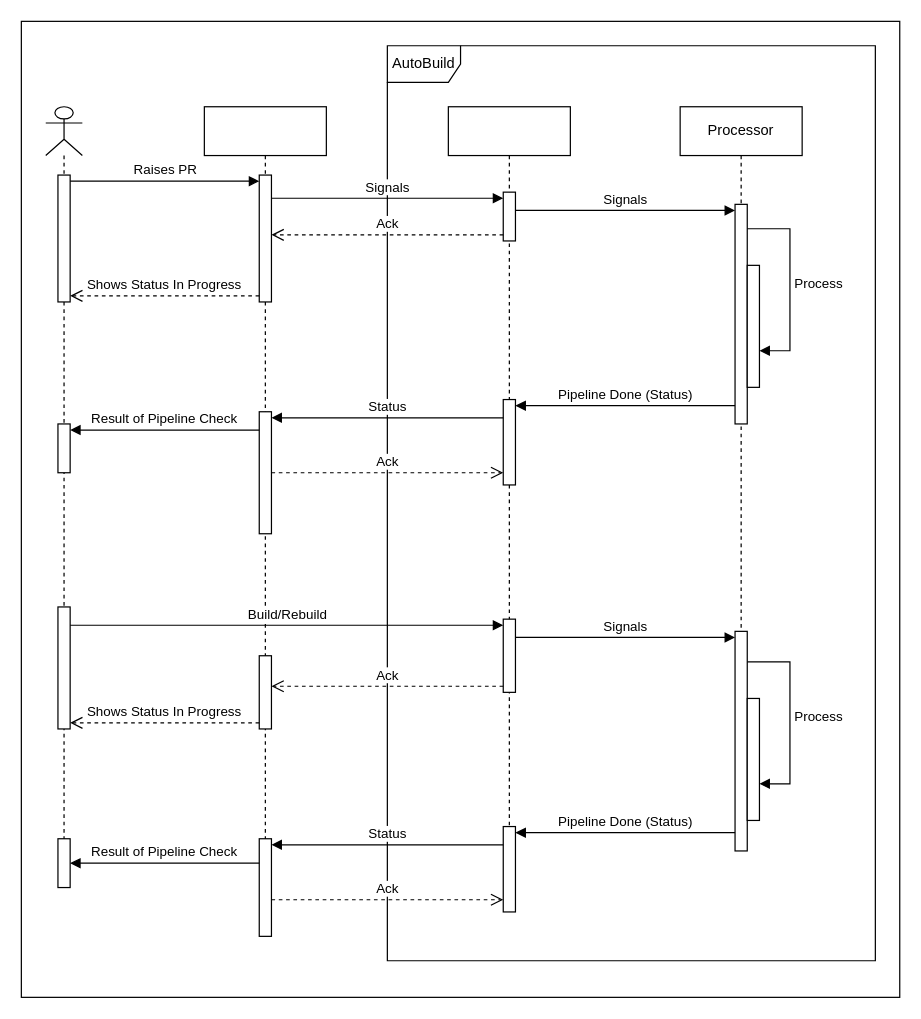
This 921x1019 diagram has some shape labels left out. Here are the shapes that lost their labels. From the top down, the centre of each, then its label:
At (264,515): "VCS".
At (508,509): "Controller".
